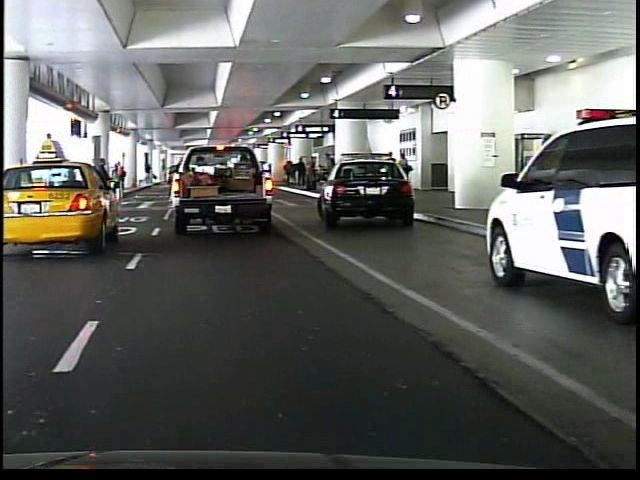person: (89, 155, 113, 224), (162, 150, 184, 204)
